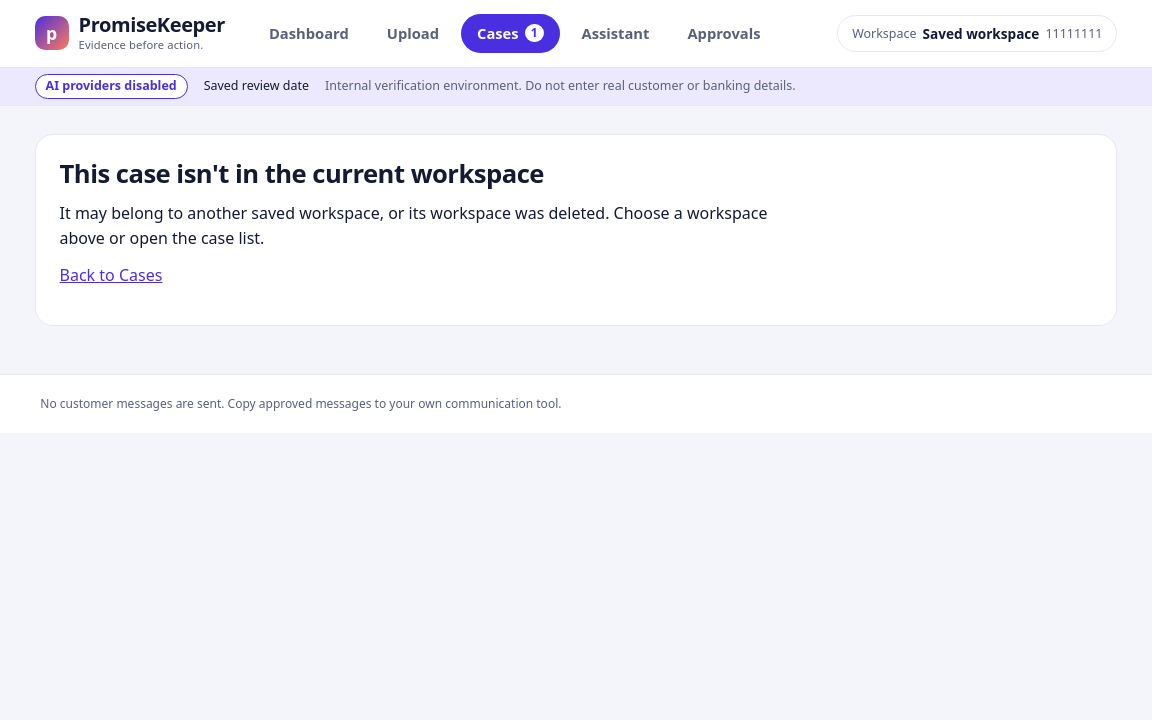
Test: explains a deep link to a case outside the current workspace instead of showing a blank page
Check: the heading "This case isn't in the current workspace" is shown, box x1=60 y1=156 x2=544 y2=190
Click the link "Back to Cases" at (111,275), box x1=60 y1=264 x2=162 y2=286
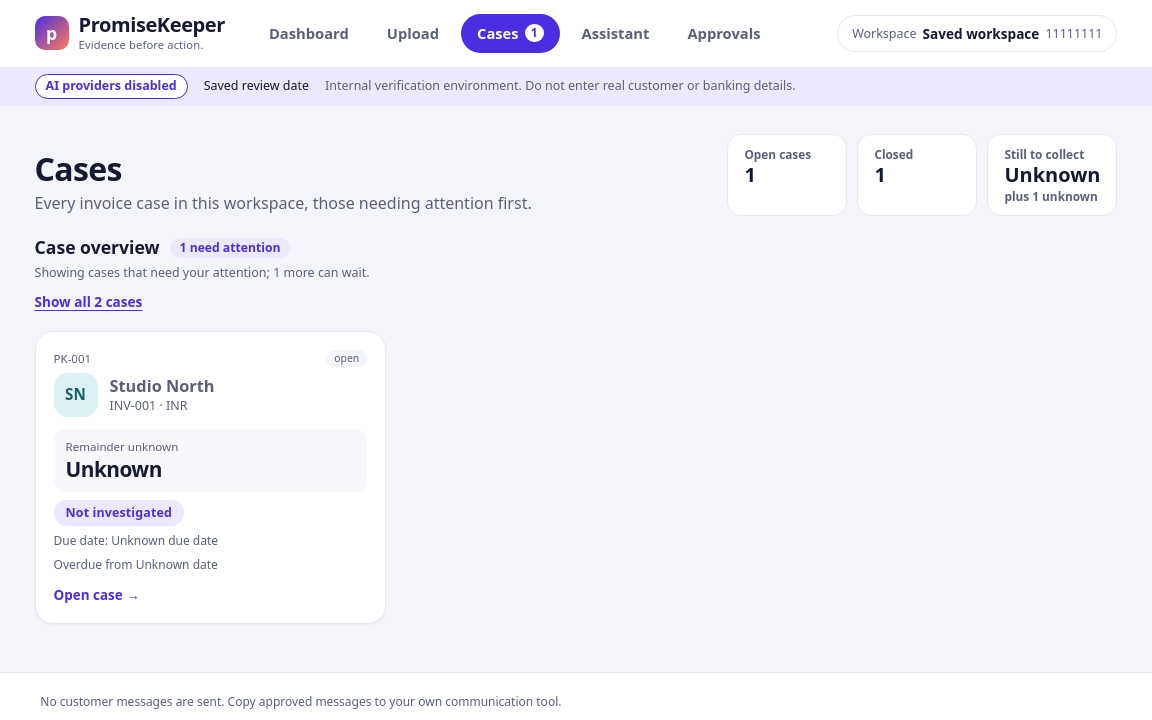
Check: the heading "Cases" is shown, box x1=34 y1=147 x2=122 y2=190
